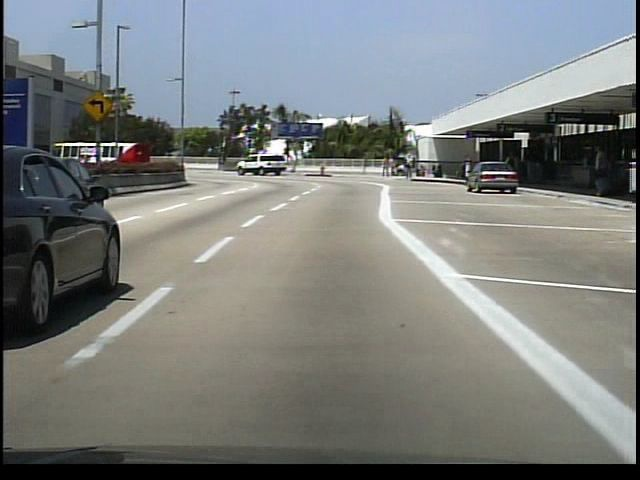person: (589, 142, 611, 200), (503, 148, 520, 186), (463, 152, 479, 185), (406, 150, 416, 181), (382, 153, 391, 177), (389, 154, 396, 178)
